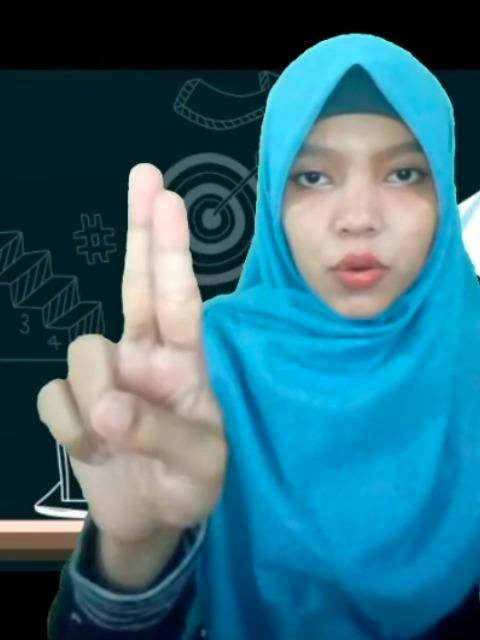U: (34, 149, 237, 543)
